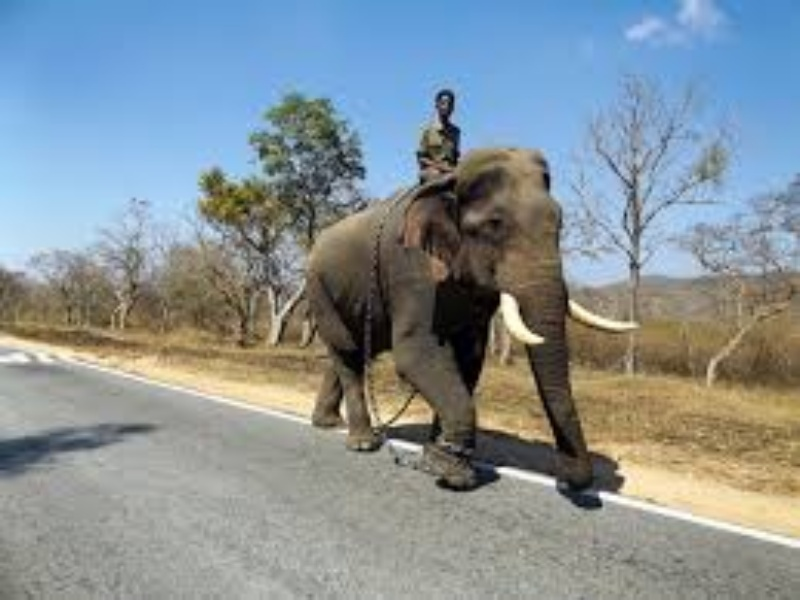elephant: (270, 135, 654, 529)
